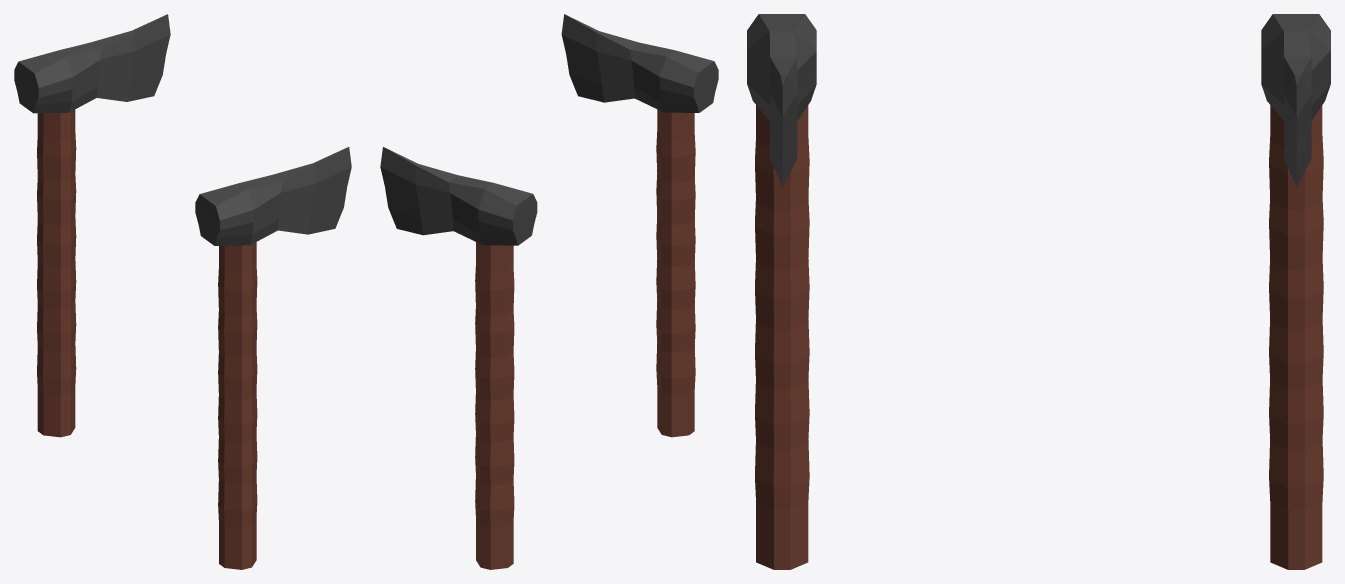
Rendered from 2topoare.fbx.
The picture shows the model from 3 angles, left to right: view 1: azimuth 30°, elevation 25°; view 2: azimuth 150°, elevation 25°; view 3: azimuth 270°, elevation 25°; orthographic projection. The views are drawn at different scales.
Parts seen in each view (by area): view 1: Cube.004, Cube.003, Cube.001, Cube.002; view 2: Cube.004, Cube.003, Cube.002, Cube.001; view 3: Cube.004, Cube.003, Cube.001, Cube.002.
Boxes of the visible parts, box(x1,y1,x2,y2) form: Cube.004: box(37, 109, 76, 437); Cube.003: box(218, 242, 257, 569); Cube.001: box(195, 147, 351, 245); Cube.002: box(14, 14, 170, 113); Cube.004: box(475, 242, 514, 569); Cube.003: box(656, 109, 695, 437); Cube.002: box(380, 147, 537, 245); Cube.001: box(561, 14, 718, 112); Cube.004: box(1269, 105, 1323, 569); Cube.003: box(755, 105, 809, 569); Cube.001: box(747, 14, 816, 187); Cube.002: box(1261, 14, 1330, 187).
Bounding box in the file's own units: 63.44 × 163 × 156.
